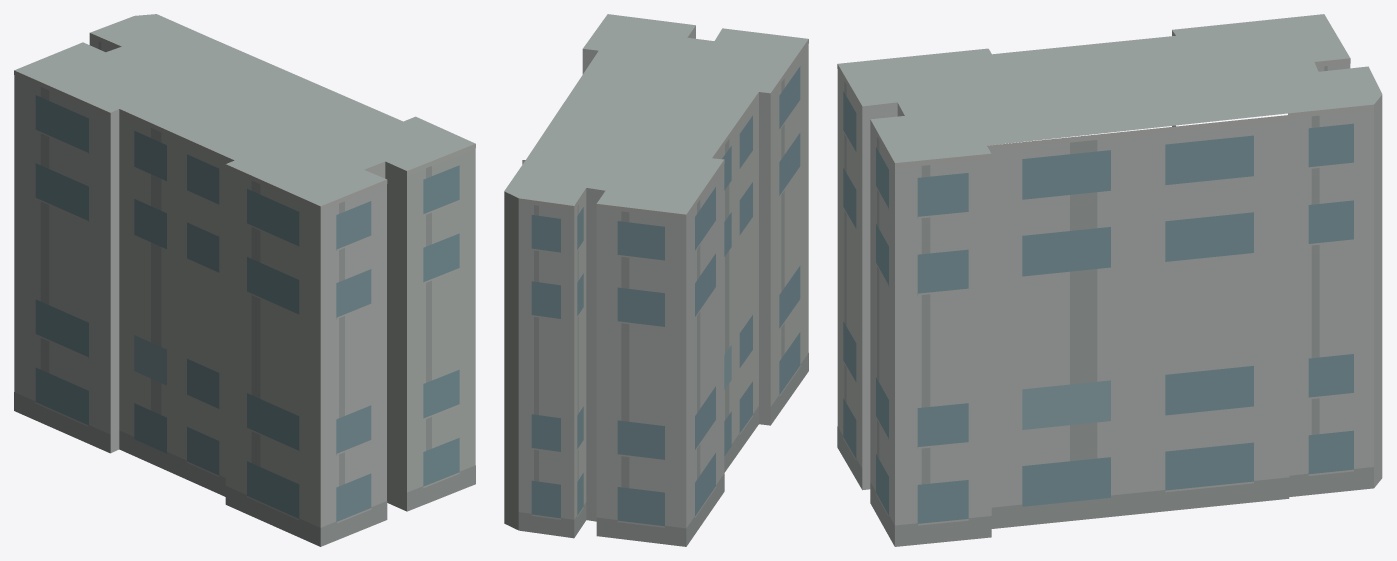
File: survey-upis-32501979.glb
3 views of the same model, side by side, from view 1: azimuth 30°, elevation 25°; view 2: azimuth 150°, elevation 25°; view 3: azimuth 270°, elevation 25° (orthographic). The views are drawn at different scales.
Parts seen in each view (by area): view 1: survey-upis-32501979.tmp; view 2: survey-upis-32501979.tmp; view 3: survey-upis-32501979.tmp.
Boxes of the visible parts, left/top/right/bottom form: survey-upis-32501979.tmp: left=14, top=14, right=475, bottom=546; survey-upis-32501979.tmp: left=504, top=14, right=808, bottom=546; survey-upis-32501979.tmp: left=837, top=14, right=1382, bottom=546.
Bounding box in the file's own units: 14.68 × 17.6 × 22.66.
